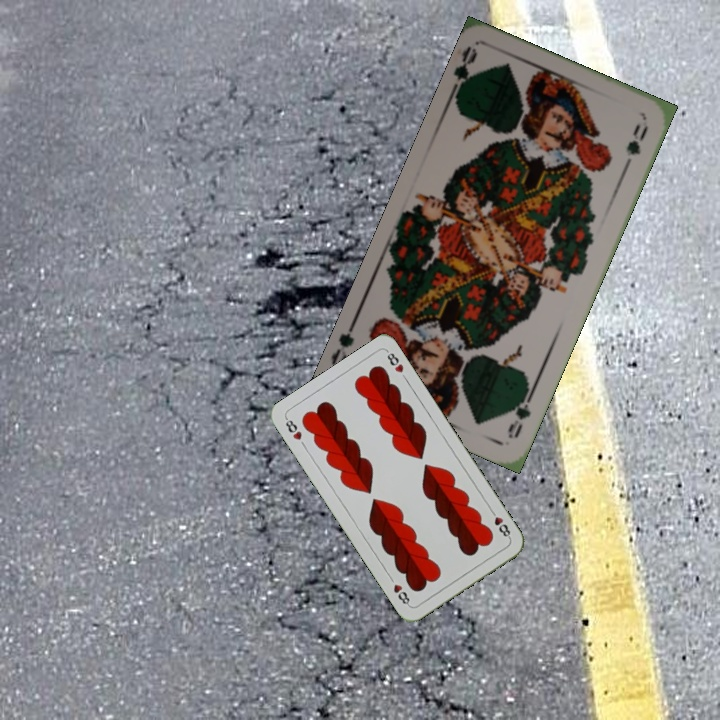GO: (445, 43, 481, 102), (503, 383, 537, 442)
H8: (486, 505, 513, 541), (281, 414, 304, 443)
